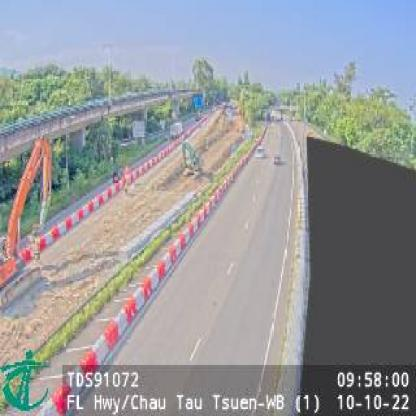Car: (257, 144, 266, 158), (272, 154, 282, 166)
